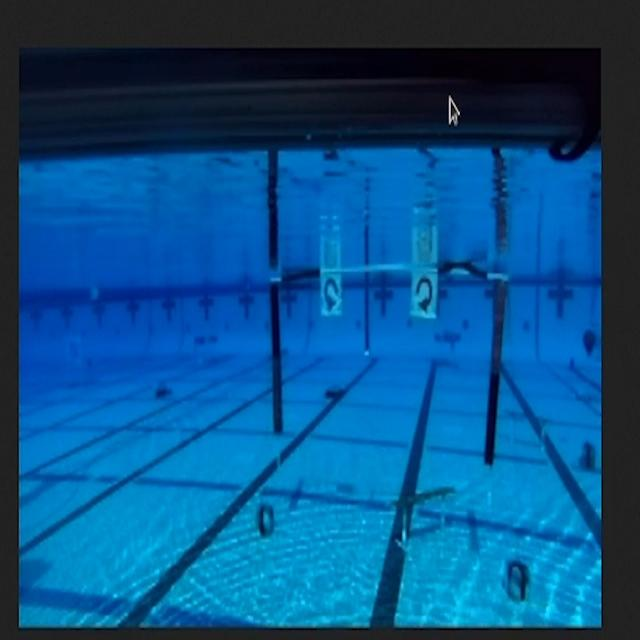Gate: (254, 249, 518, 482)
Path: (383, 469, 464, 562)
